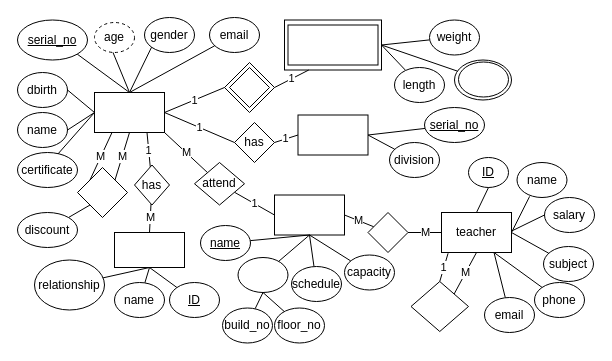
This 612x361 diagram has some shape labels left out. The shapes that lost their labels are listed below. From the top down, each one's box as (x1, y1, x2, y2) in pixels, then its label:
(287, 24, 378, 65): medical_report
(228, 66, 270, 108): fill
(458, 61, 508, 97): diseases
(94, 92, 164, 132): student
(297, 114, 368, 155): application
(76, 166, 128, 218): sibling
(274, 194, 344, 235): calss
(367, 212, 408, 252): in
(114, 232, 184, 268): parent
(237, 256, 288, 292): location
(410, 280, 468, 332): head
